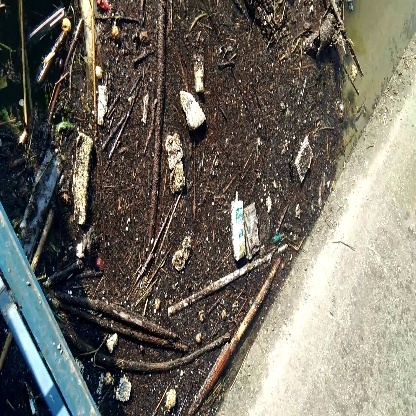branch: (148, 3, 166, 232)
milk-box: (226, 187, 248, 261)
